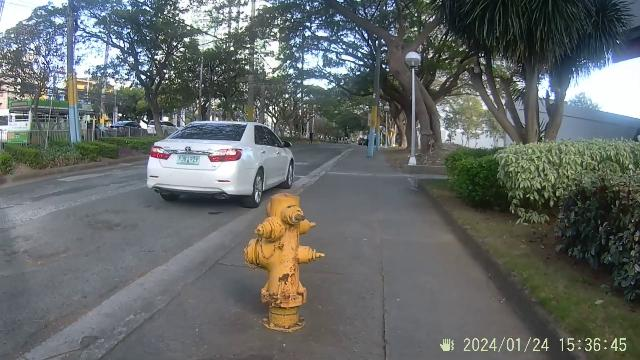cracked_pavement: (364, 274, 404, 360)
lamp_post: (407, 55, 423, 168)
utility_post: (368, 99, 378, 155)
